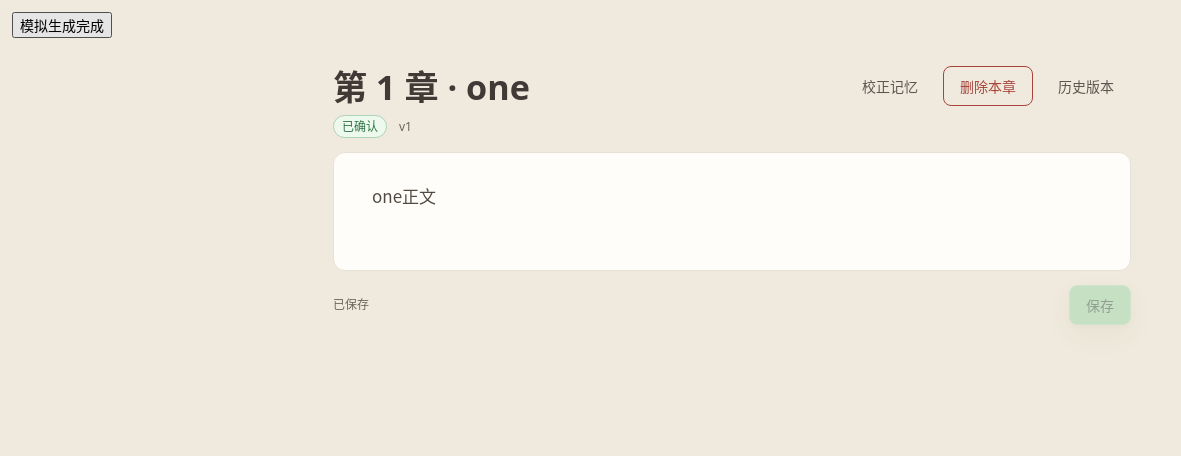
it: 章节编辑的草稿和版本保护 › 生成刷新保留本地修改并提示冲突
Replace the text in the text box named "章节正文" with "还没提交的手工修订" at (732, 212), box top-left (333, 152), bottom-right (1131, 271)
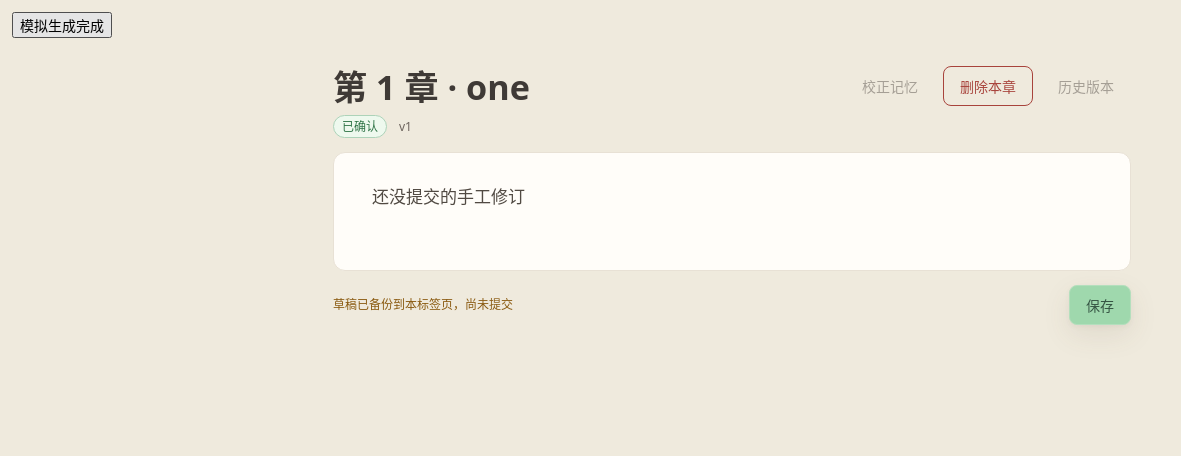
Click the button "模拟生成完成" at (62, 25), box top-left (12, 12), bottom-right (112, 38)
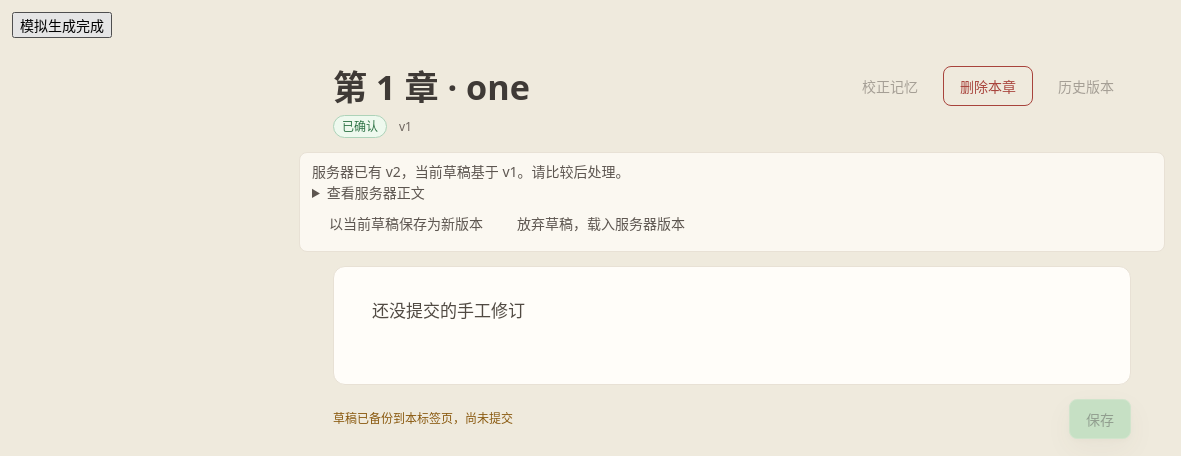
Now the button "保存" is disabled, box top-left (1069, 399), bottom-right (1131, 439)
